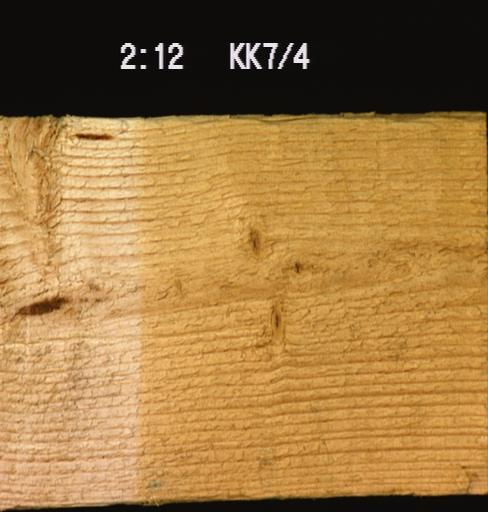sound_knot: (258, 292, 291, 348), (239, 216, 270, 262)
